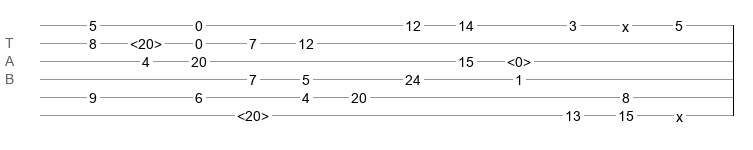0: (195, 18, 203, 28), (195, 36, 203, 46)
1: (515, 72, 523, 82)
12: (298, 36, 314, 46), (405, 18, 421, 28)
13: (565, 108, 581, 118)
14: (458, 18, 474, 28)
15: (458, 54, 474, 64), (618, 108, 634, 118)
20: (191, 54, 207, 64), (351, 90, 367, 100)
24: (405, 72, 421, 82)
3: (569, 18, 577, 28)
4: (142, 54, 150, 64), (302, 90, 310, 100)
5: (89, 18, 97, 28), (302, 72, 310, 82), (675, 18, 683, 28)
6: (195, 90, 203, 100)
7: (249, 72, 257, 82), (249, 36, 257, 46)
8: (89, 36, 97, 46), (622, 90, 630, 100)
9: (89, 90, 97, 100)
harmonic: (130, 36, 162, 46), (237, 108, 269, 118), (507, 54, 531, 64)
x: (622, 19, 629, 27), (676, 109, 683, 117)
